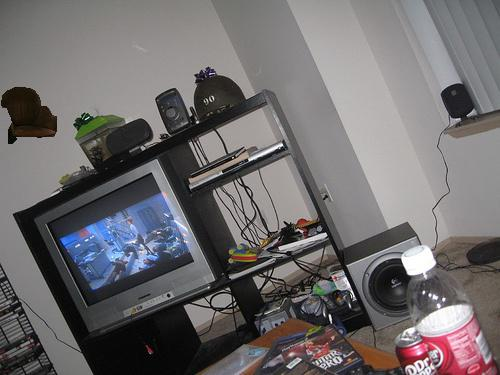tampered: (2, 88, 57, 144)
